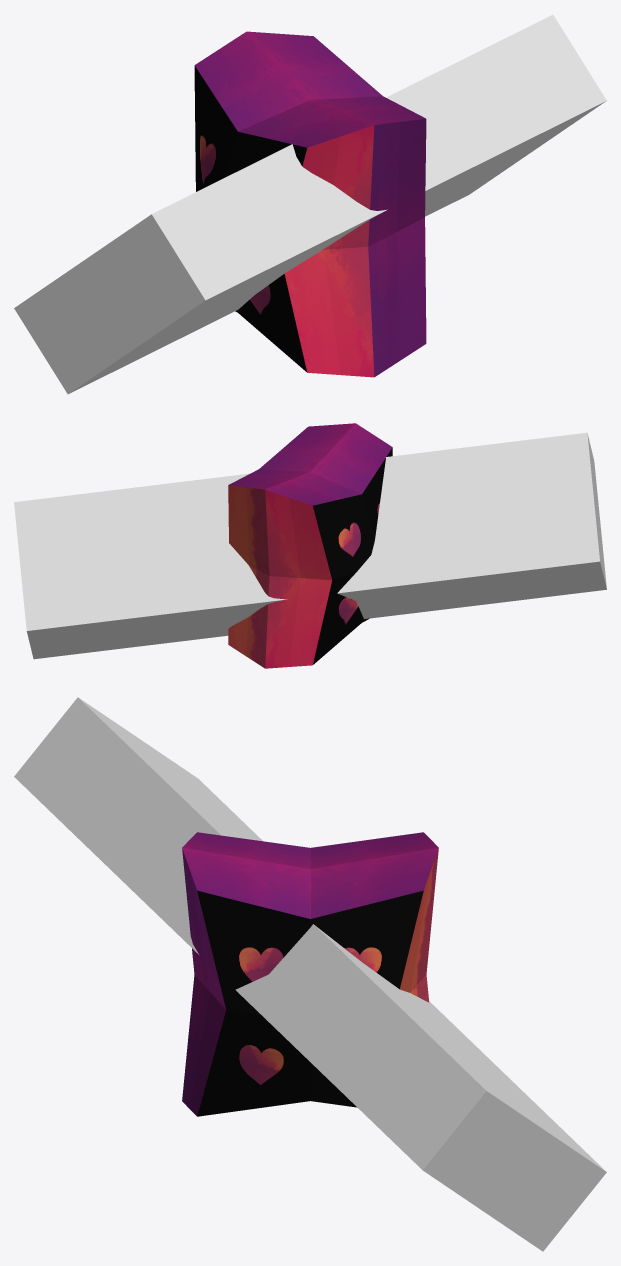
Rendered from untitledFourtfbx.fbx.
3 renders of one model, top to bottom at view 1: azimuth 30°, elevation 25°; view 2: azimuth 150°, elevation 25°; view 3: azimuth 270°, elevation 25°, orthographic. The views are drawn at different scales.
Visible parts, largest first — view 1: Cube, Куб; view 2: Cube, Куб; view 3: Cube, Куб.
Part boxes in pixels (bbox=[...]): Cube: bbox=[14, 14, 606, 394]; Куб: bbox=[194, 31, 426, 377]; Cube: bbox=[14, 432, 606, 659]; Куб: bbox=[228, 423, 392, 668]; Cube: bbox=[14, 697, 606, 1251]; Куб: bbox=[182, 832, 438, 1116].
Bounding box in the file's own units: 4140 × 1595 × 3003.
